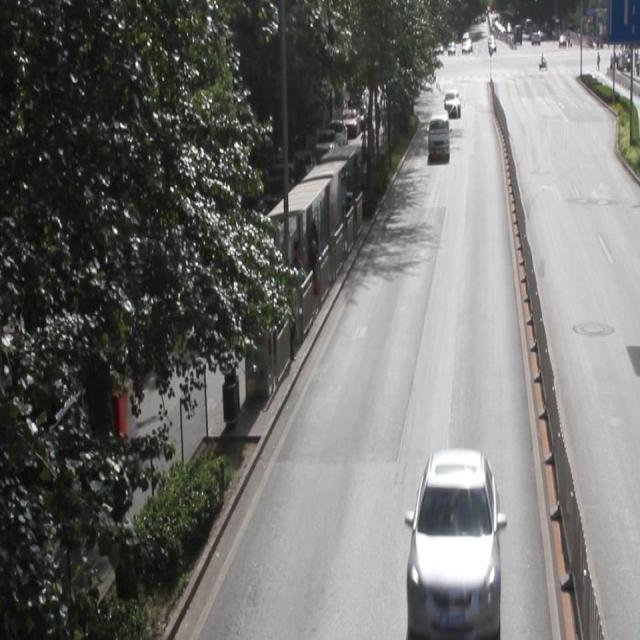car: (404, 449, 496, 640)
truck: (427, 110, 448, 160)
